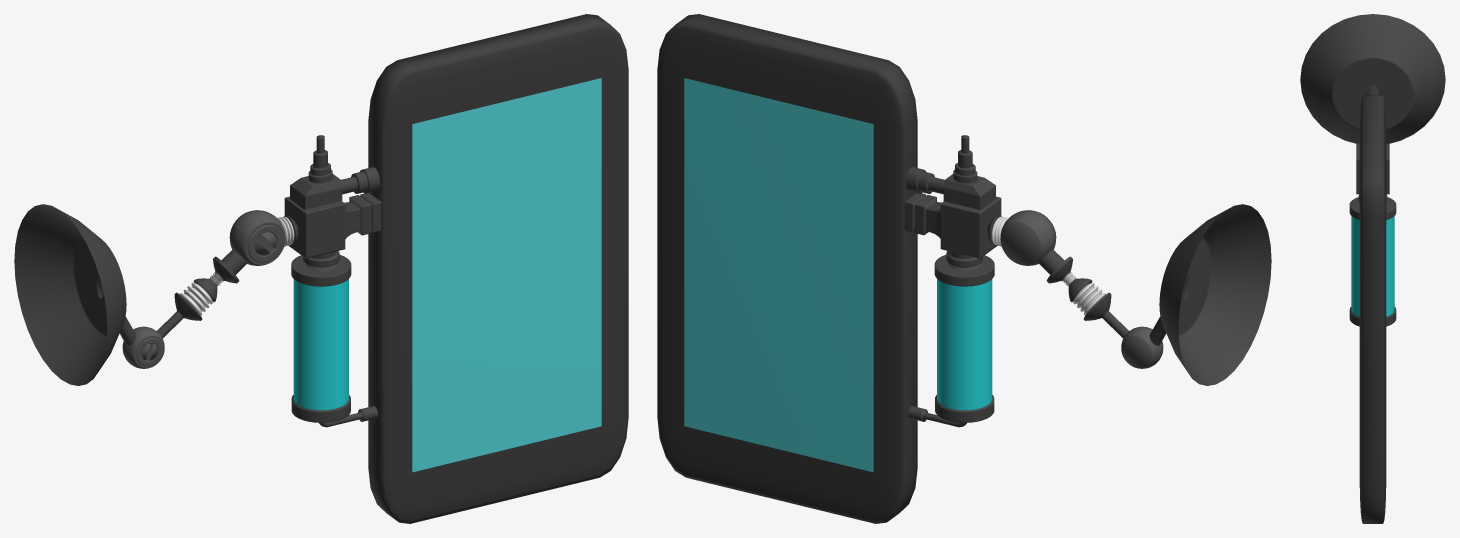
The model's file is CartelloV1.fbx.
The picture shows the model from 3 angles, left to right: view 1: azimuth 30°, elevation 25°; view 2: azimuth 150°, elevation 25°; view 3: azimuth 270°, elevation 25°; orthographic projection. The views are drawn at different scales.
Visible parts, largest first — view 1: CartelloPu; view 2: CartelloPu; view 3: CartelloPu.
Part boxes in pixels (bbox=[...]): CartelloPu: bbox=[14, 14, 628, 523]; CartelloPu: bbox=[657, 14, 1271, 523]; CartelloPu: bbox=[1300, 14, 1445, 523].
Size of the model in its own units: 242 by 187 by 69.55.
